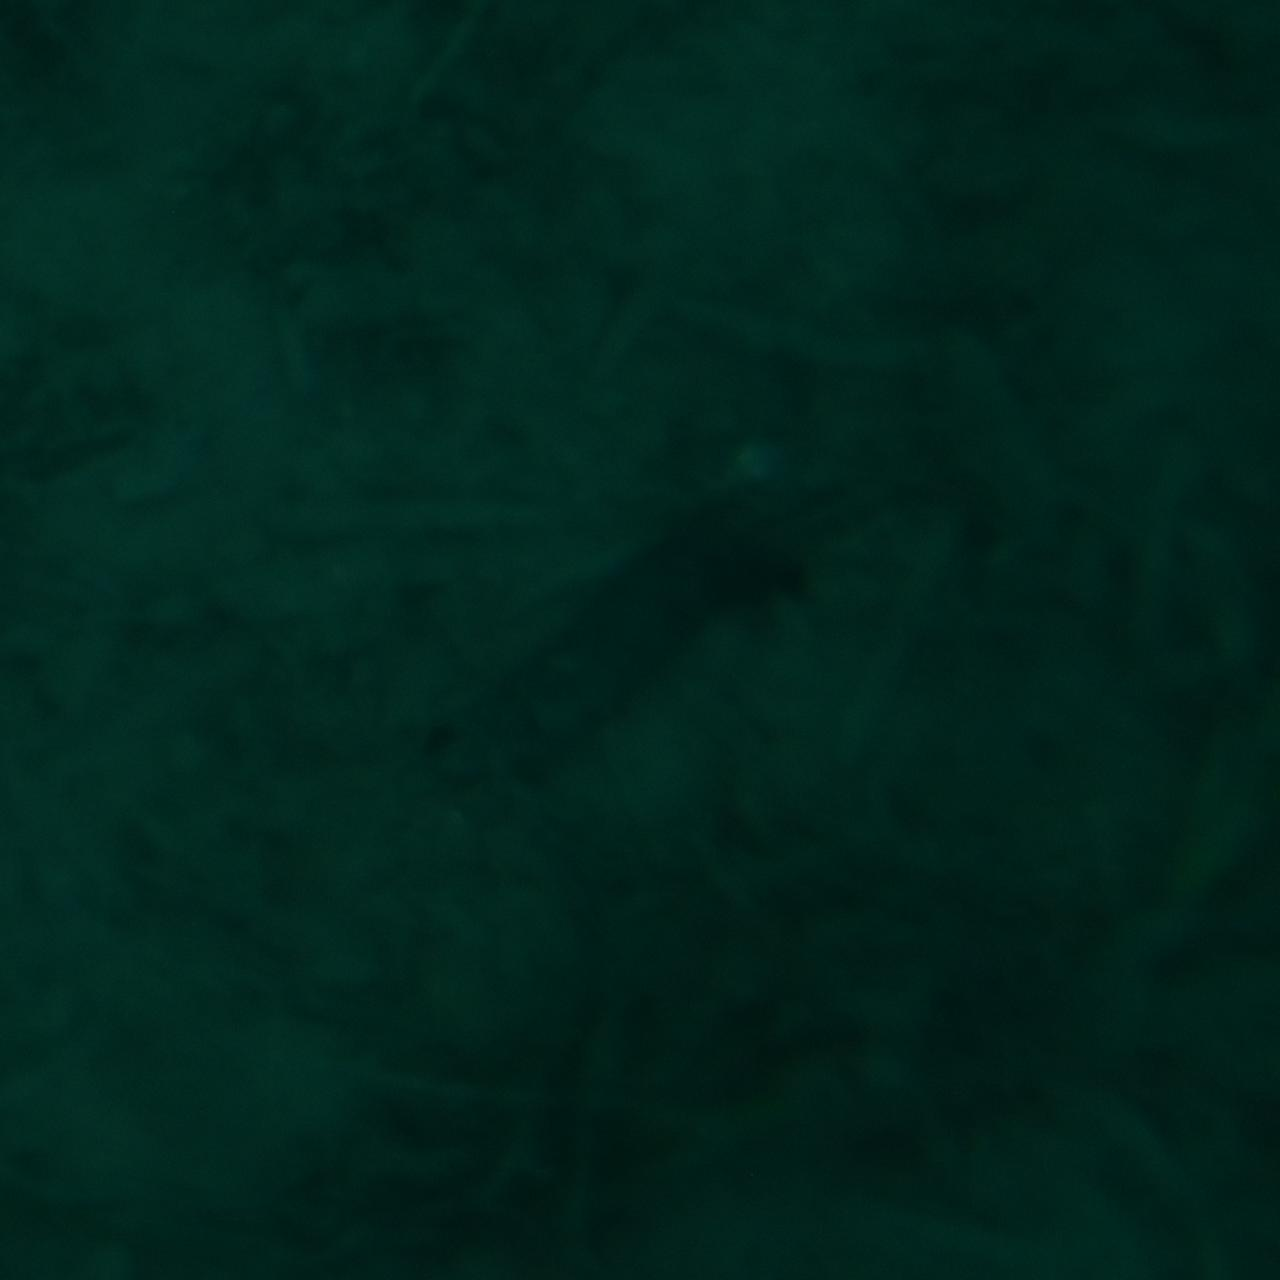Holothuria tubulosa: (414, 472, 866, 808)
